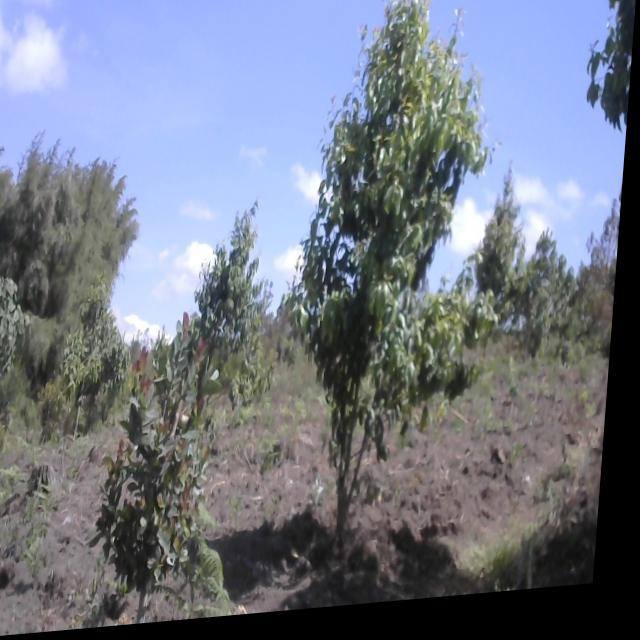Lemon Myrtle: (272, 0, 527, 587), (195, 200, 275, 397), (61, 273, 139, 427)
other: (89, 309, 236, 631), (0, 260, 30, 416)
